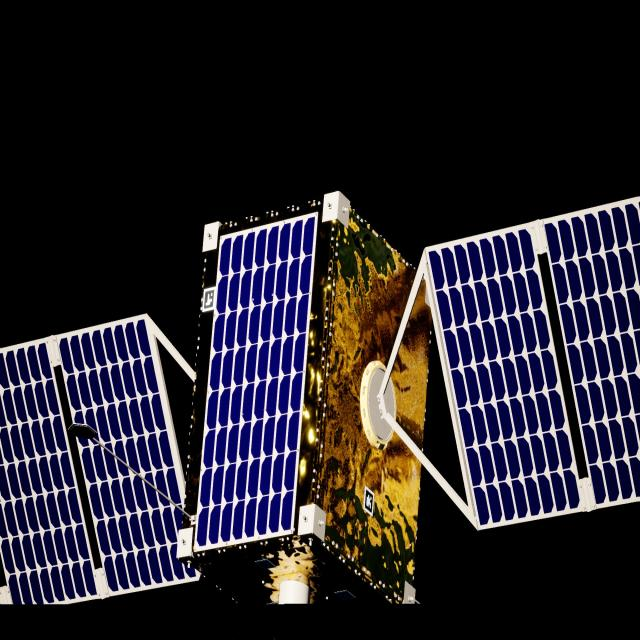medium_debris: (0, 193, 640, 606)
